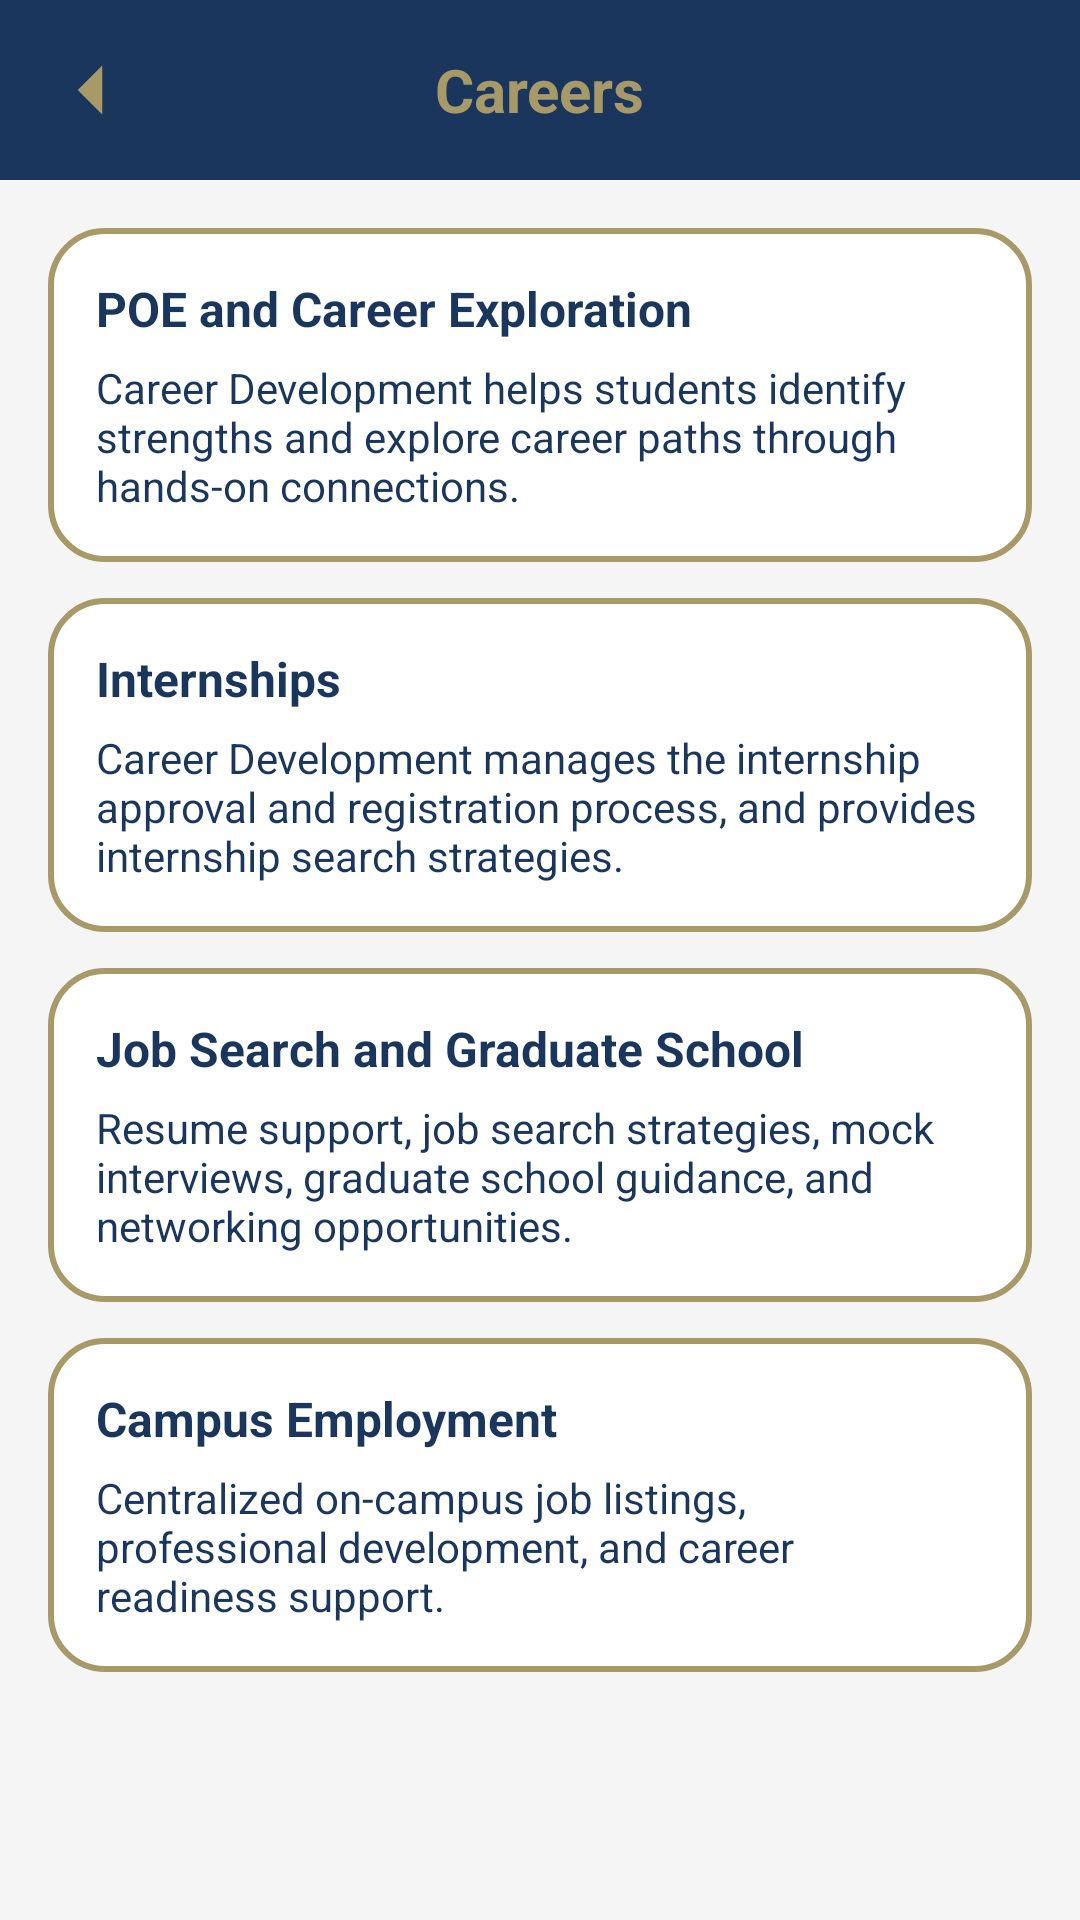

Named icons in this screenshot (1080px×1920px) and their bounding boxes, Rect(x1, y1, x2, y2):
back: Rect(78, 66, 103, 114)
